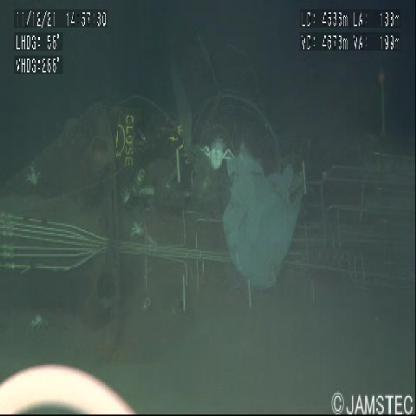Rác: (222, 153, 307, 293)
